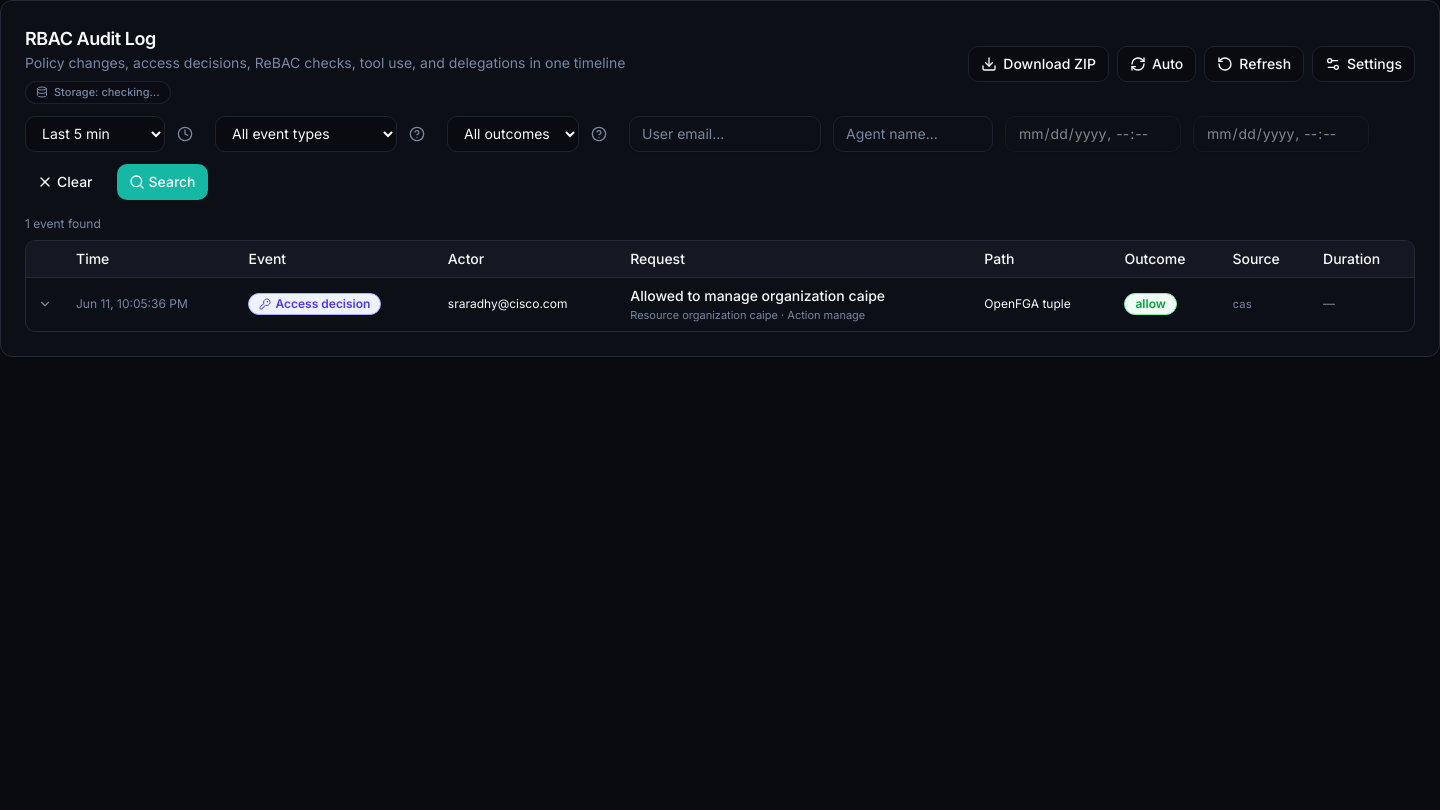
UnifiedAuditTab › renders CAS decisions as readable authorization stories
Expected: the text "sraradhy@cisco.com" is shown, [436,277,618,331]
Expected: the text "OpenFGA tuple" is shown, [972,277,1112,331]
Click the text "Allowed to manage organization caipe" at (758, 295), box [630,286,885,304]
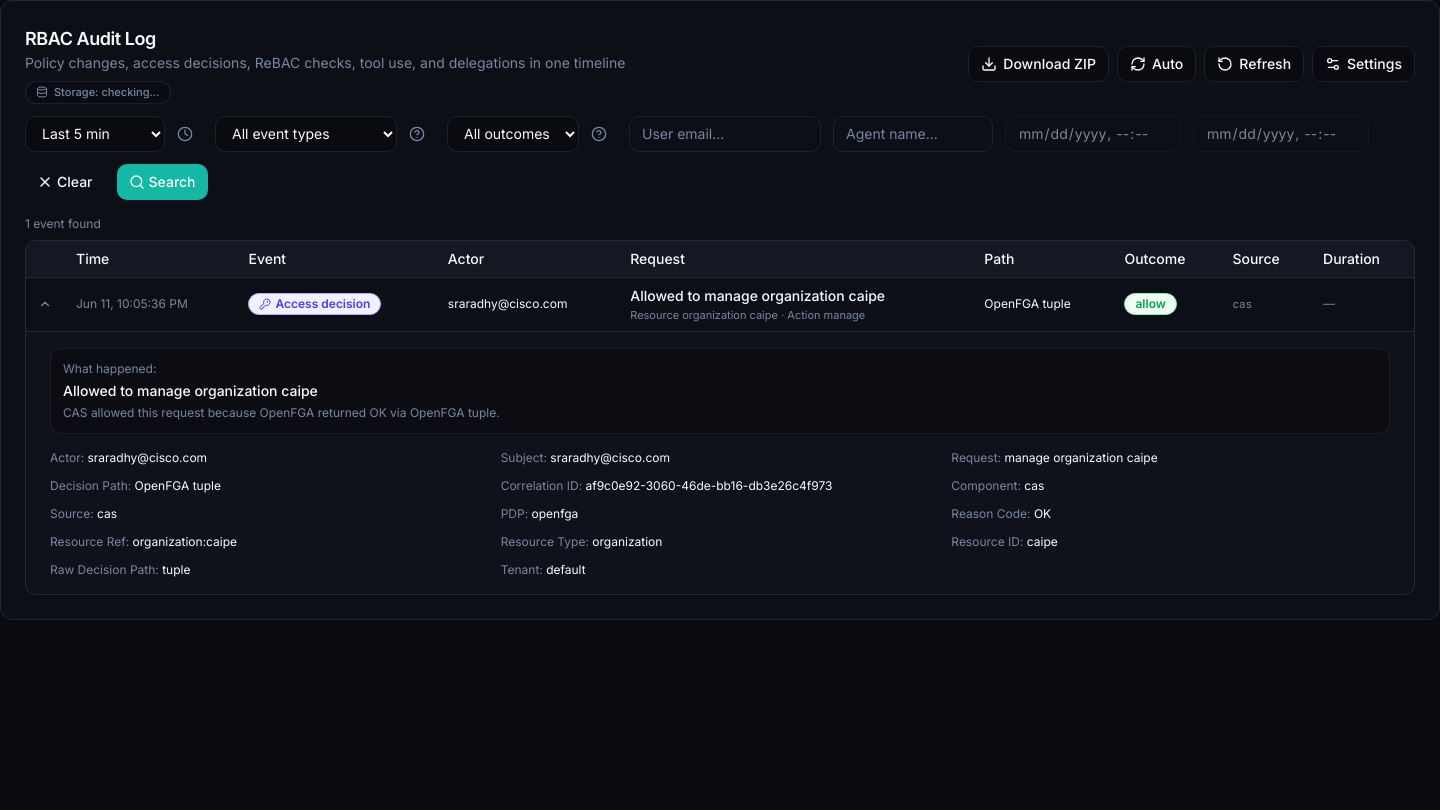
Expected: the text "What happened:" is shown, [63,361,156,376]
Expected: the text "CAS allowed this request because OpenFGA returned OK" is shown, [63,405,500,420]
